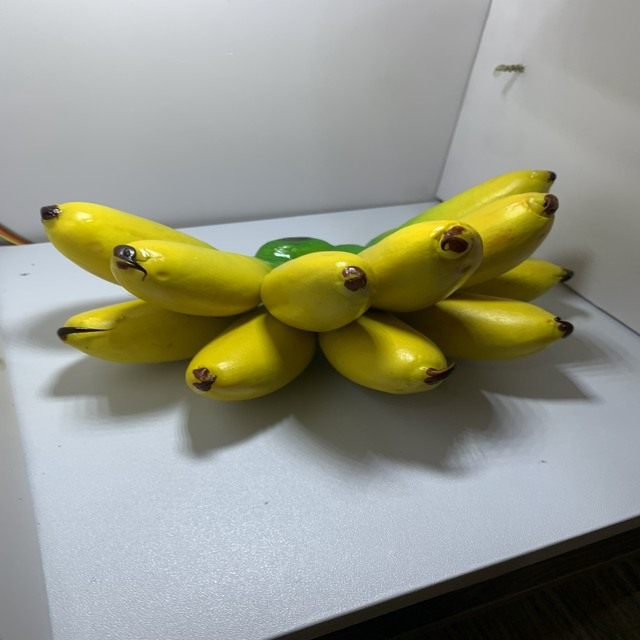Chuoi: (34, 161, 585, 411)
